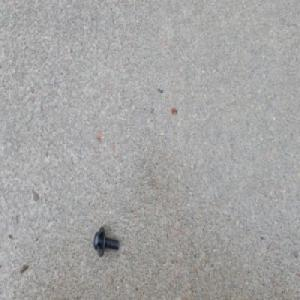BoltWasher: (93, 226, 119, 257)
